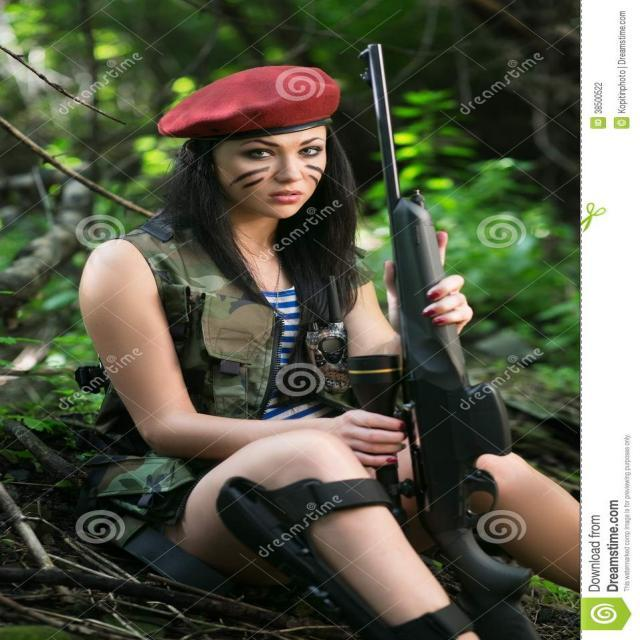weapon: (367, 37, 556, 614)
